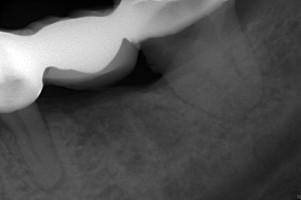Furcation Involvement: (41, 165, 65, 193)
